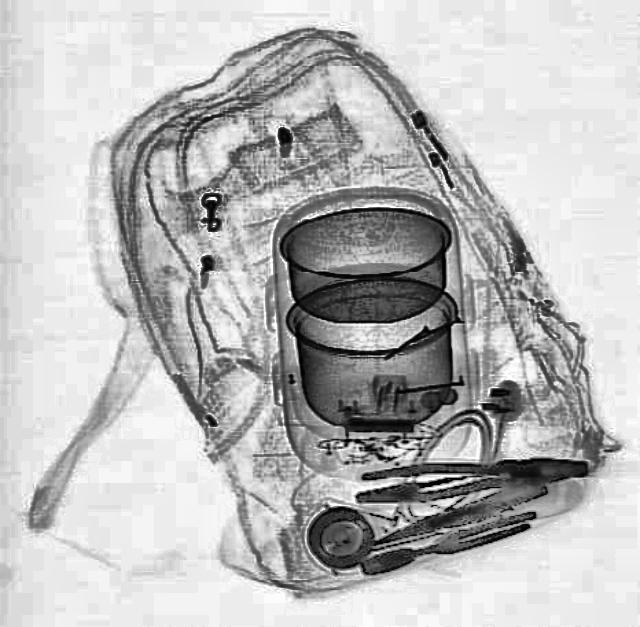Pliers: (350, 448, 590, 506), (356, 507, 542, 579)
